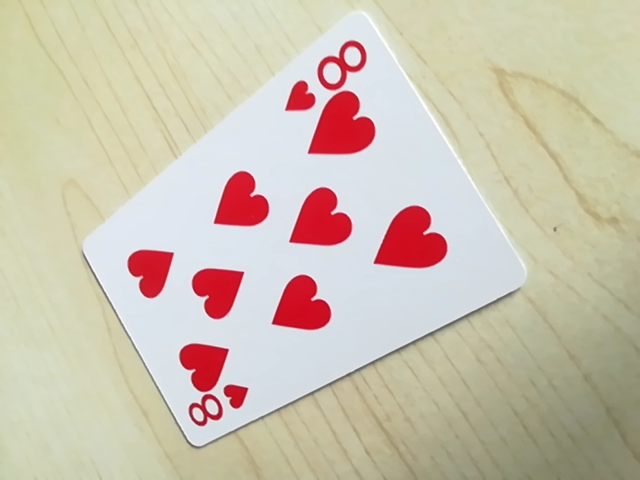hx 8: (287, 35, 369, 108), (182, 384, 254, 433)
